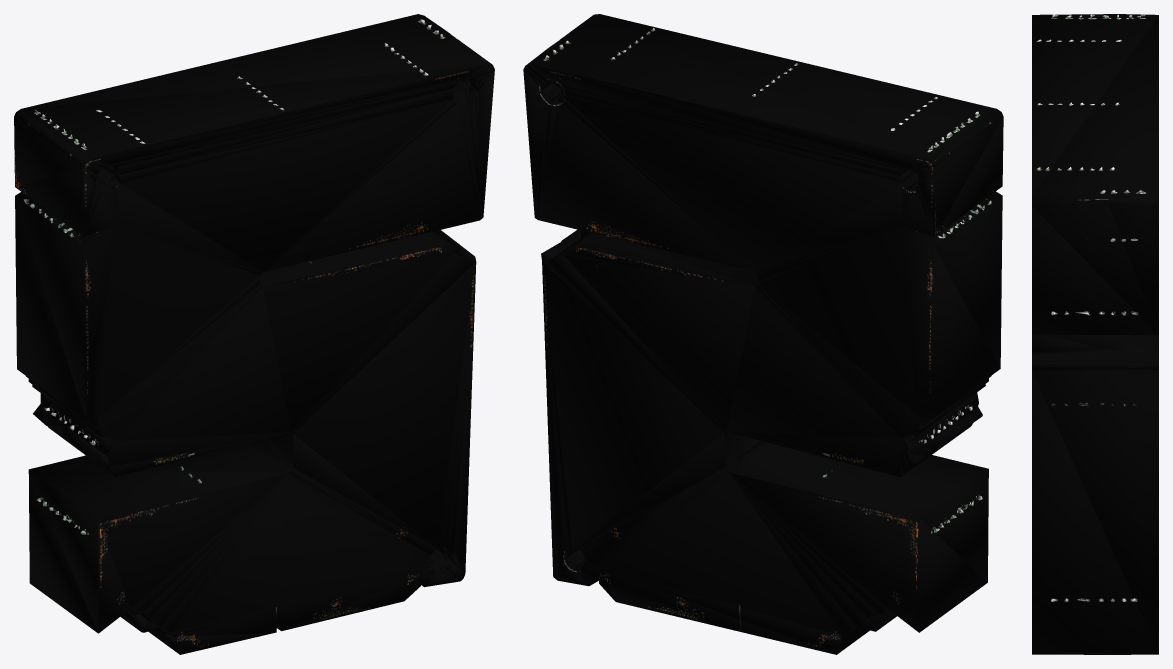
File: side_number.glb
3 renders of one model, left to right at view 1: azimuth 30°, elevation 25°; view 2: azimuth 150°, elevation 25°; view 3: azimuth 270°, elevation 25°, orthographic. The views are drawn at different scales.
Visible parts, largest first — view 1: tripo_node_46962041-2b93-4eab-8d44-e352aac87a55; view 2: tripo_node_46962041-2b93-4eab-8d44-e352aac87a55; view 3: tripo_node_46962041-2b93-4eab-8d44-e352aac87a55.
Boxes of the visible parts, bbox=[...] form: tripo_node_46962041-2b93-4eab-8d44-e352aac87a55: bbox=[14, 14, 494, 654]; tripo_node_46962041-2b93-4eab-8d44-e352aac87a55: bbox=[523, 14, 1003, 654]; tripo_node_46962041-2b93-4eab-8d44-e352aac87a55: bbox=[1032, 14, 1158, 654].
Size of the model in its own units: 0.8188 by 0.9986 by 0.2363.
1 material, 1 textured.
